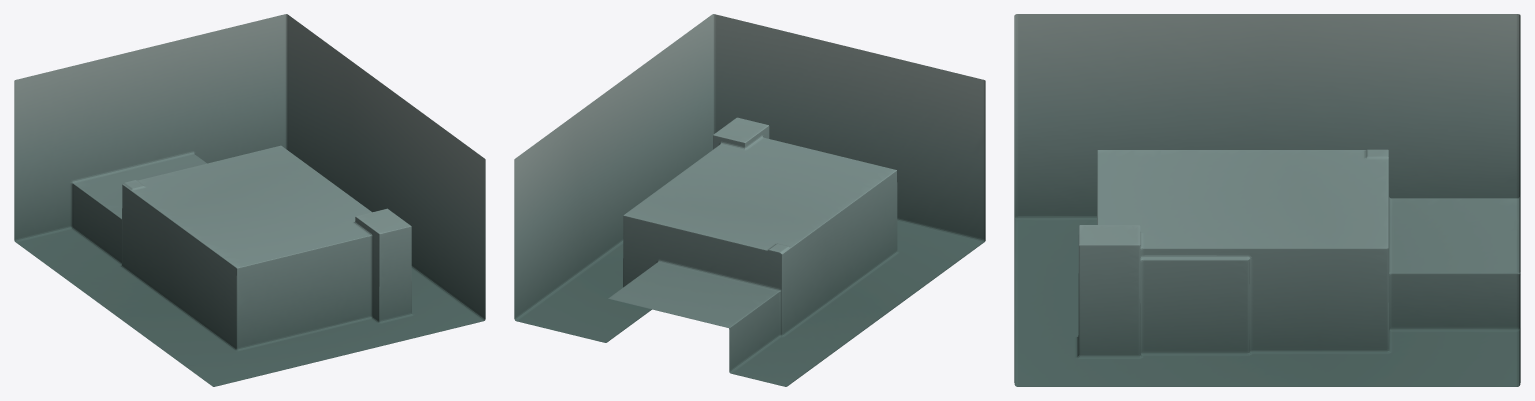
File: drowned_nave_col.glb
The picture shows the model from 3 angles, left to right: view 1: azimuth 30°, elevation 25°; view 2: azimuth 150°, elevation 25°; view 3: azimuth 270°, elevation 25°; orthographic projection. The views are drawn at different scales.
Parts seen in each view (by area): view 1: geometry_0; view 2: geometry_0; view 3: geometry_0.
Part boxes in pixels (x1,y1,x2,y2): geometry_0: (14, 14, 485, 386); geometry_0: (514, 14, 985, 386); geometry_0: (1014, 14, 1520, 386).
Bounding box in the file's own units: 130 × 73.78 × 165.
